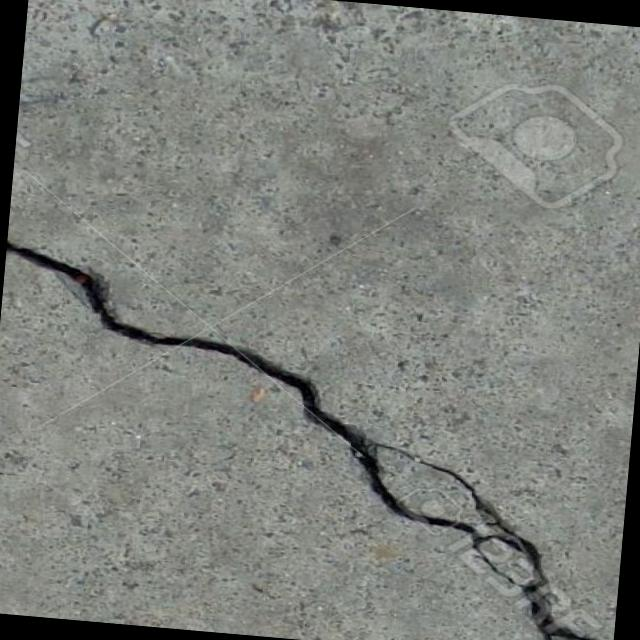crack: (0, 243, 639, 640)
